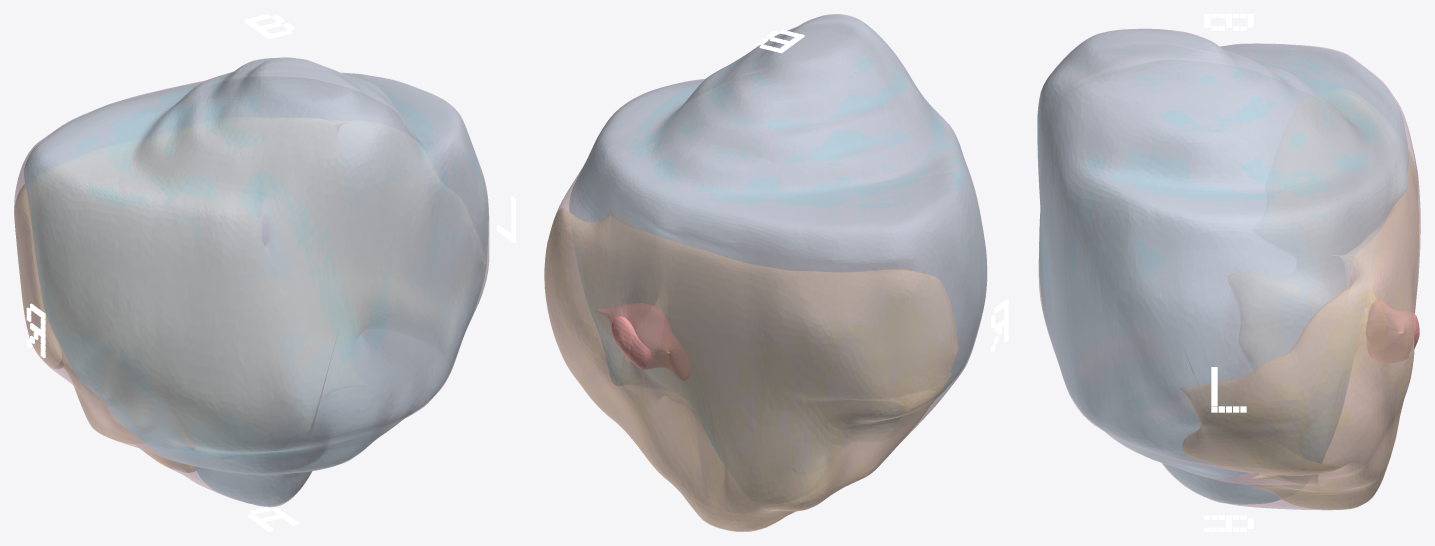
The picture shows the model from 3 angles, left to right: view 1: azimuth 30°, elevation 25°; view 2: azimuth 150°, elevation 25°; view 3: azimuth 270°, elevation 25°; orthographic projection. The views are drawn at different scales.
Parts seen in each view (by area): view 1: prostate_gland, transition_zone, peripheral_zone, pv_ar_marker_B, pv_ar_marker_R; view 2: prostate_gland, peripheral_zone, transition_zone, lesion_01, pv_ar_marker_B; view 3: prostate_gland, transition_zone, peripheral_zone, lesion_01, pv_ar_marker_B, pv_ar_marker_A, pv_ar_marker_L.
Part boxes in pixels (x1,y1,x2,y2): prostate_gland: (14, 57, 489, 507); transition_zone: (24, 58, 488, 506); peripheral_zone: (14, 118, 364, 472); pv_ar_marker_B: (244, 14, 294, 39); pv_ar_marker_R: (26, 303, 45, 357); prostate_gland: (544, 14, 987, 530); peripheral_zone: (544, 206, 958, 531); transition_zone: (569, 15, 986, 468); lesion_01: (596, 303, 690, 380); pv_ar_marker_B: (757, 29, 804, 53); prostate_gland: (1037, 28, 1420, 510); transition_zone: (1038, 29, 1408, 504); peripheral_zone: (1180, 150, 1418, 509); lesion_01: (1366, 300, 1419, 363); pv_ar_marker_B: (1204, 14, 1253, 30); pv_ar_marker_A: (1204, 515, 1253, 531); pv_ar_marker_L: (1211, 367, 1246, 412).
Bounding box in the file's own units: 0.0702 × 0.0703 × 0.0486.
